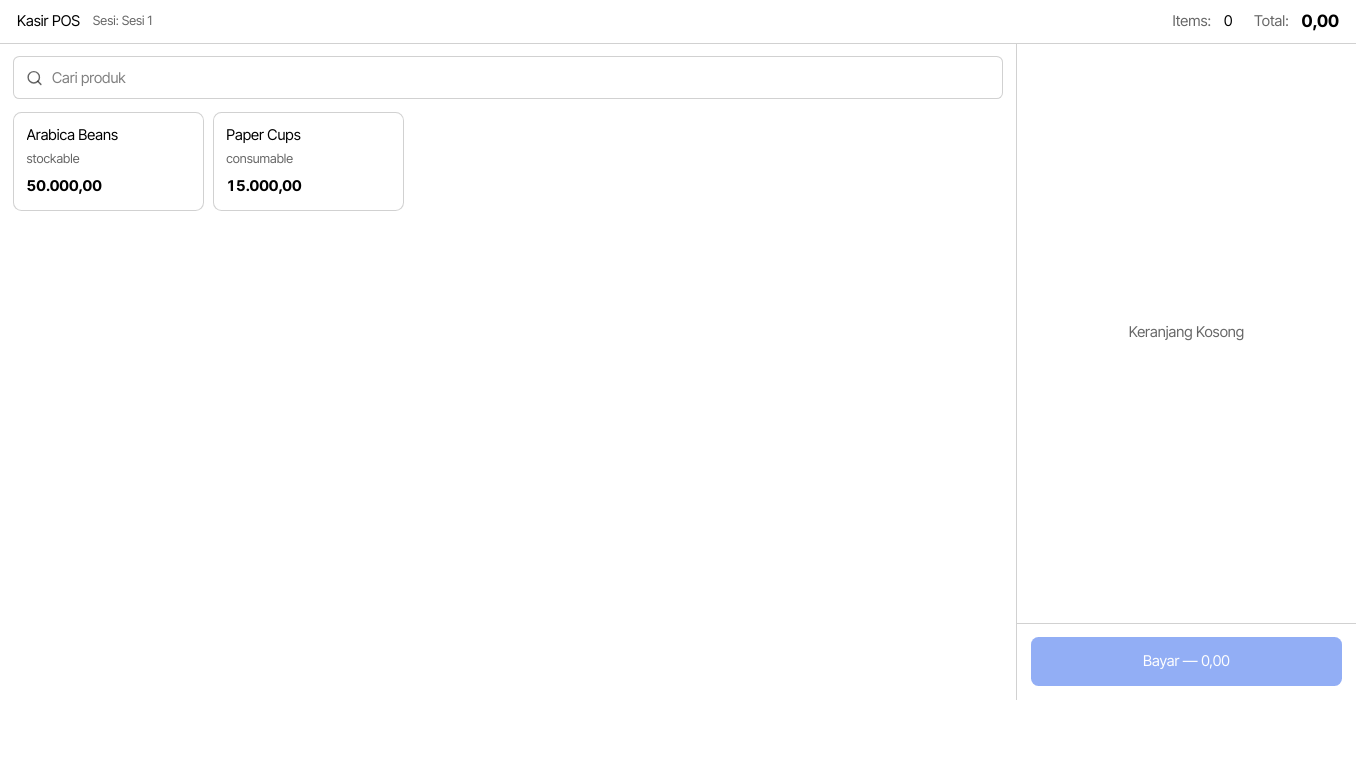
Test case: PosRegister extra2 › disables pay when the session is closed
The image size is (1366, 768).
expect the text "Arabica Beans" is shown: met, box [26,125,118,147]
What coordinates should you click on to do the following:
click the button "Arabica Beans stockable 50.000,00"
I would click on:
 (108, 161)
Its box is [13,112,204,211].
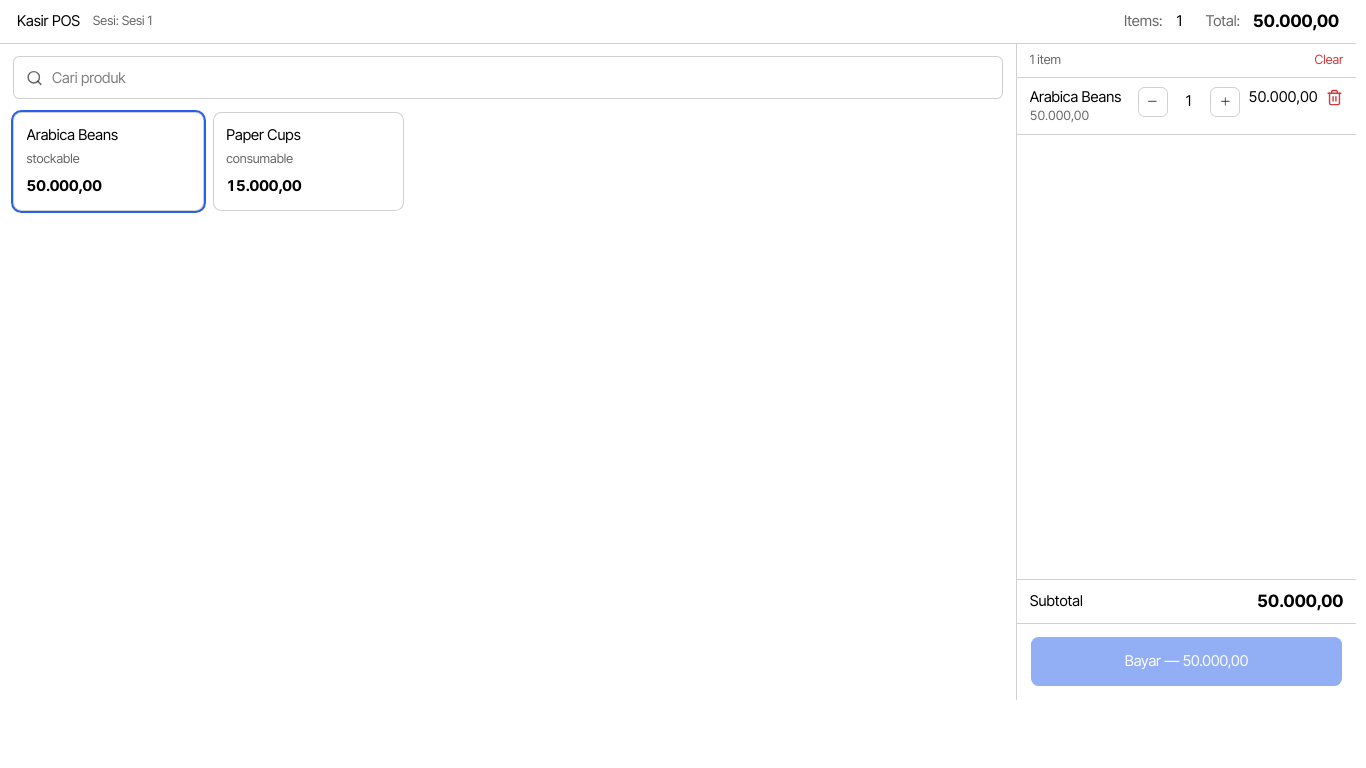
expect the button "Bayar — 50.000,00" is disabled: met, box [1030,636,1343,687]
expect the text "1 item" is shown: met, box [1030,52,1061,69]
